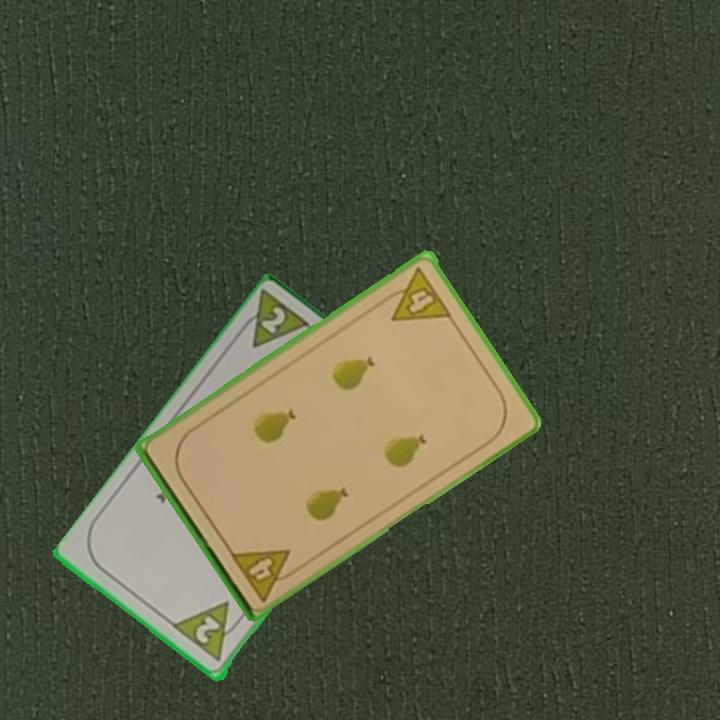2p: (232, 287, 316, 353), (170, 598, 248, 666)
4p: (377, 263, 455, 325), (226, 545, 303, 605)
